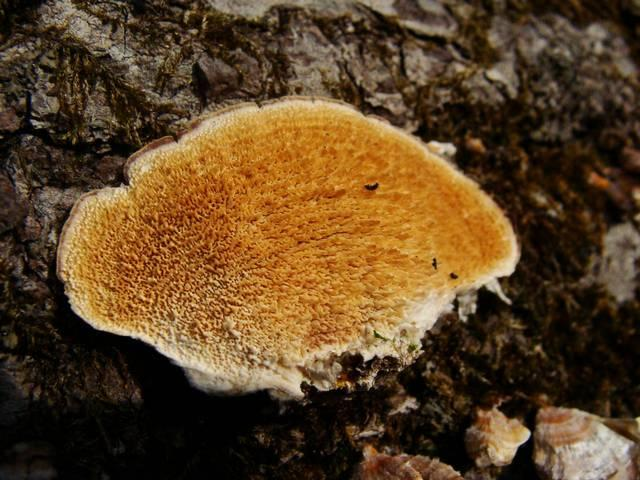Non-edible Mushroom: (54, 94, 522, 403)
